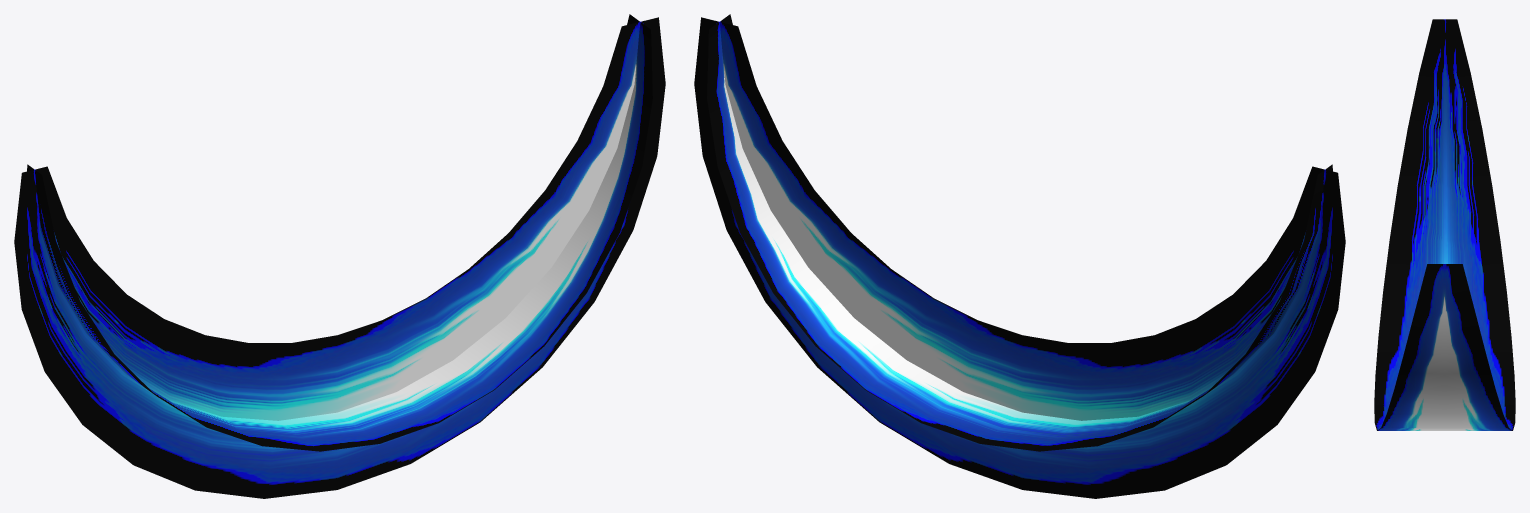
File: Mesh_wandaoguang001.FBX
The picture shows the model from 3 angles, left to right: view 1: azimuth 30°, elevation 25°; view 2: azimuth 150°, elevation 25°; view 3: azimuth 270°, elevation 25°; orthographic projection. The views are drawn at different scales.
Parts seen in each view (by area): view 1: Plane001; view 2: Plane001; view 3: Plane001.
Boxes of the visible parts, <box> form: Plane001: <box>14,14,665,498</box>; Plane001: <box>694,14,1345,498</box>; Plane001: <box>1374,19,1515,430</box>.
Bounding box in the file's own units: 72.04 × 41.66 × 16.36.
1 material, 1 textured.
